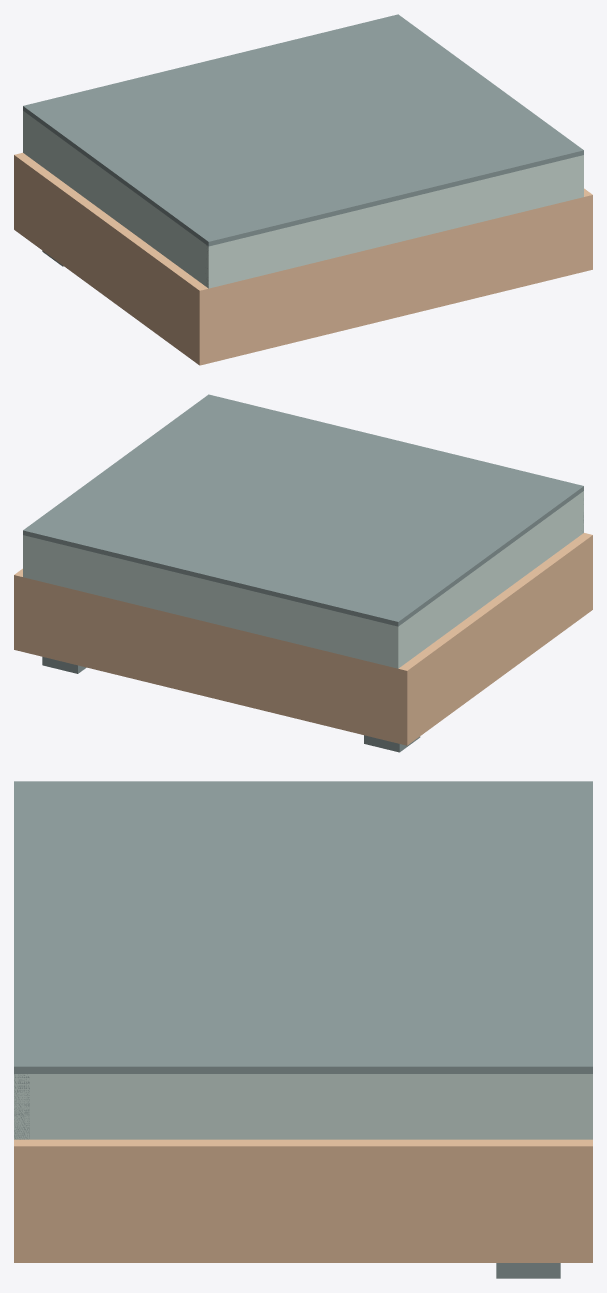
File: recordPlayer.glb
The picture shows the model from 3 angles, top to bottom: view 1: azimuth 30°, elevation 25°; view 2: azimuth 150°, elevation 25°; view 3: azimuth 270°, elevation 25°; orthographic projection. The views are drawn at different scales.
Parts seen in each view (by area): view 1: anim:lid, recordPlayer; view 2: anim:lid, recordPlayer; view 3: anim:lid, recordPlayer.
Boxes of the visible parts, x1=… form: anim:lid: x1=23, y1=14, x2=583, y2=288; recordPlayer: x1=14, y1=124, x2=592, y2=365; anim:lid: x1=23, y1=394, x2=583, y2=668; recordPlayer: x1=14, y1=436, x2=592, y2=752; anim:lid: x1=14, y1=781, x2=592, y2=1139; recordPlayer: x1=14, y1=992, x2=592, y2=1278.
Size of the model in its own units: 0.22 by 0.075 by 0.18.
